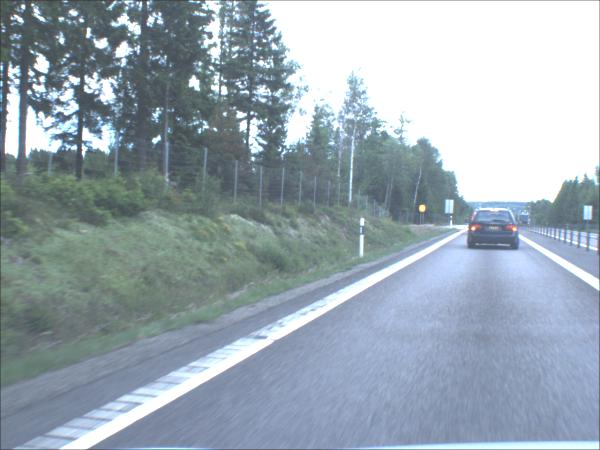70_SIGN: (419, 206, 426, 214)
